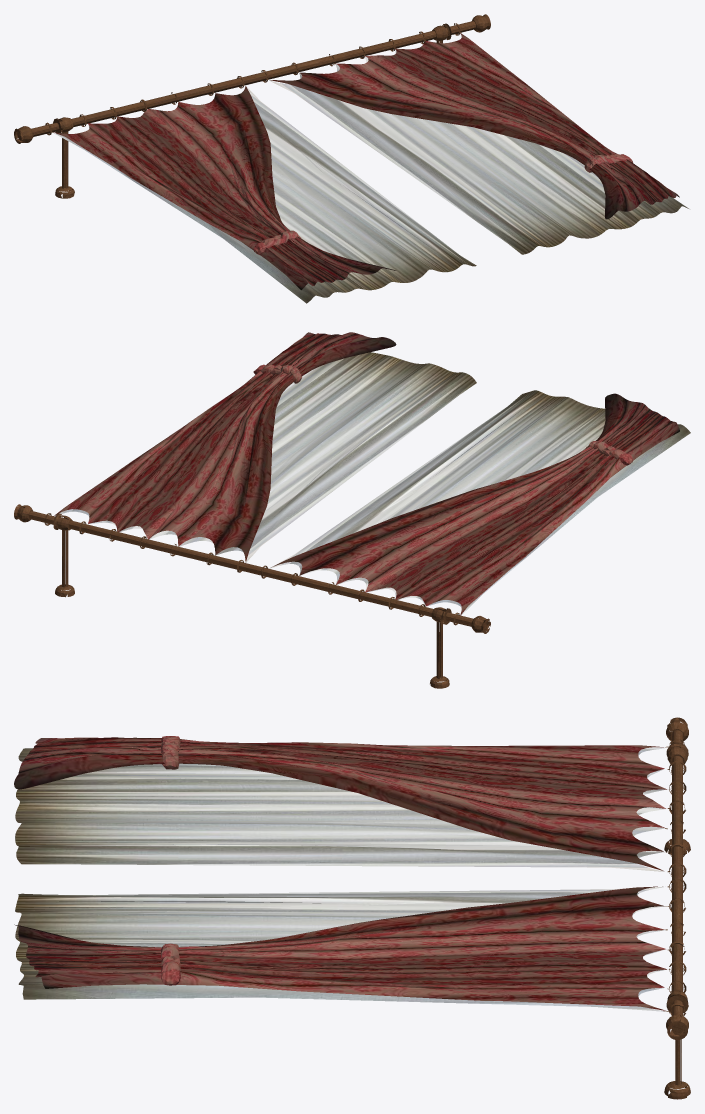
The model's file is f_curtain.glb.
The picture shows the model from 3 angles, top to bottom: view 1: azimuth 30°, elevation 25°; view 2: azimuth 150°, elevation 25°; view 3: azimuth 270°, elevation 25°; orthographic projection. The views are drawn at different scales.
Bounding box in the file's own units: 2.15 × 0.4184 × 2.02.
Materials: 3 (3 with a texture image).
